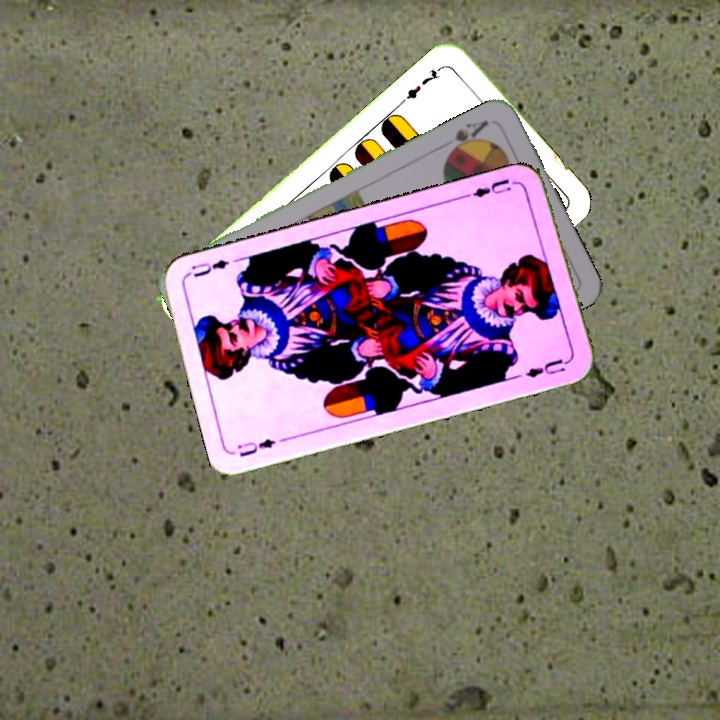E7: (398, 61, 447, 106)
EU: (463, 175, 522, 200), (233, 434, 278, 460)
SA: (443, 115, 491, 158)
